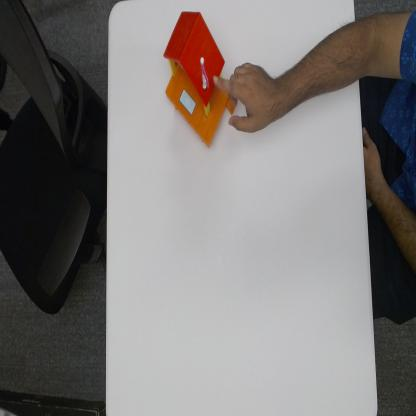Arm: (278, 27, 358, 119)
Hand: (213, 60, 280, 139)
House: (164, 10, 236, 150)
